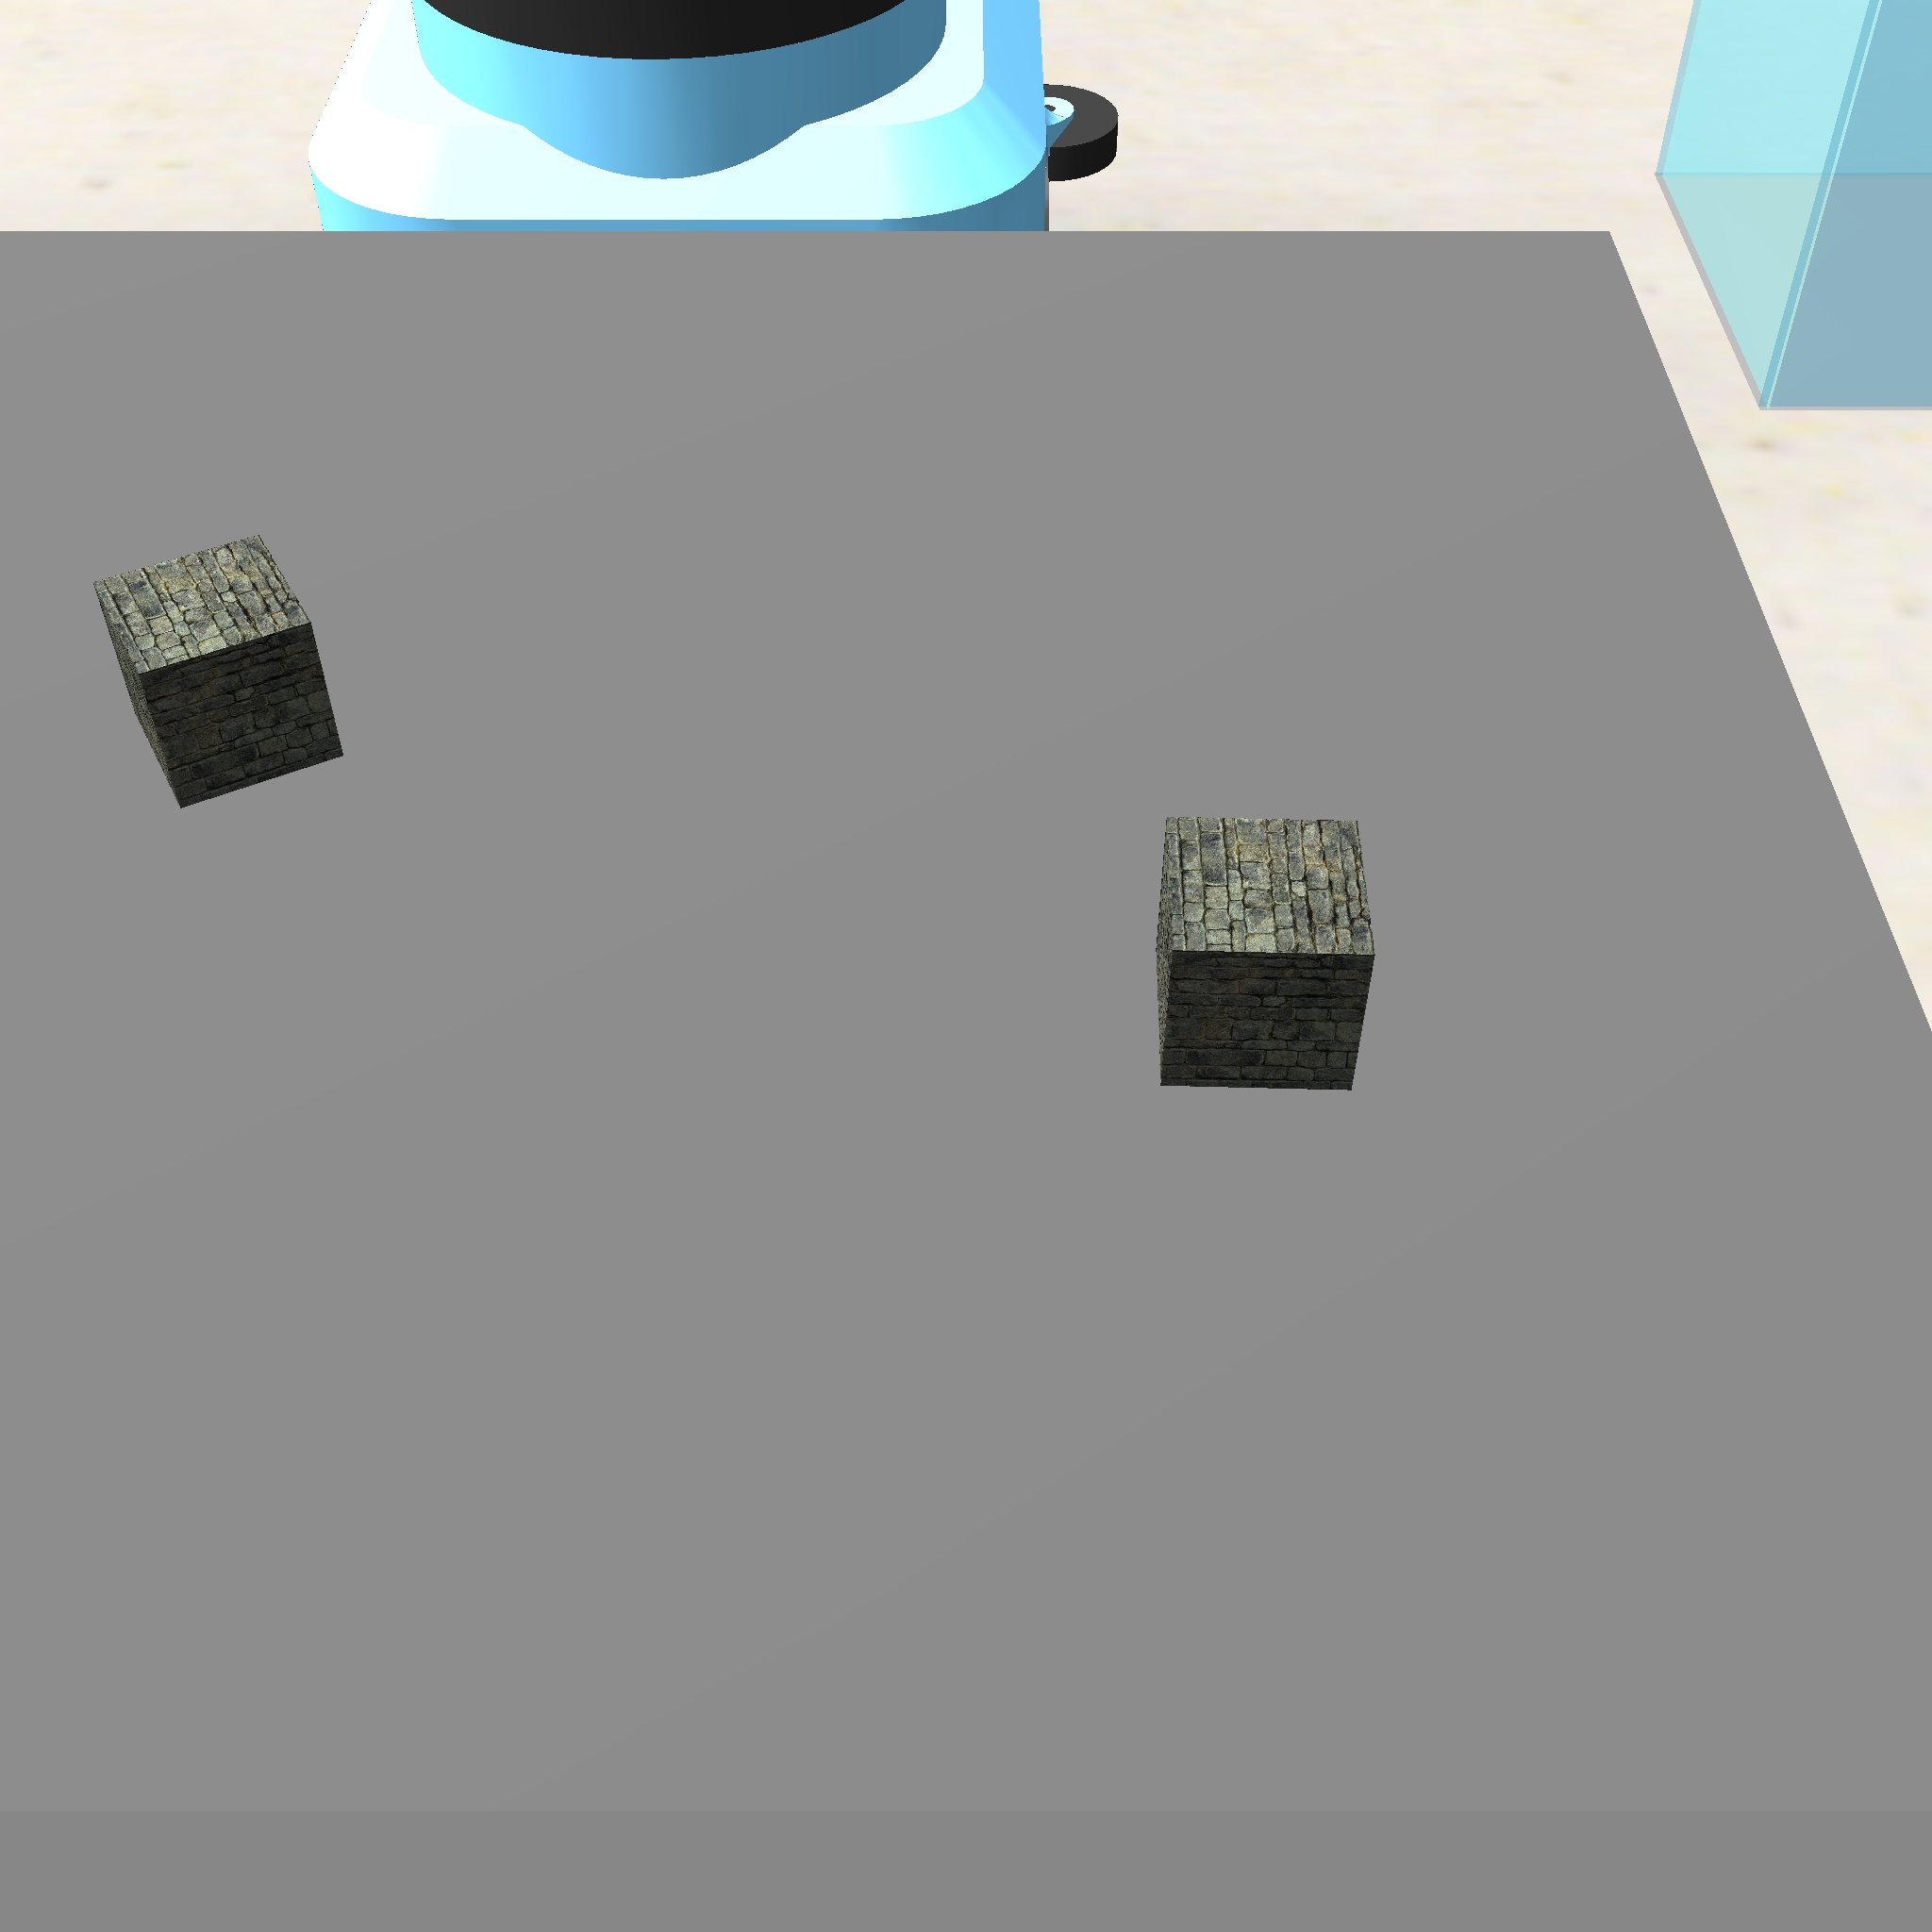cube: (88, 529, 356, 816), (1148, 803, 1380, 1102)
